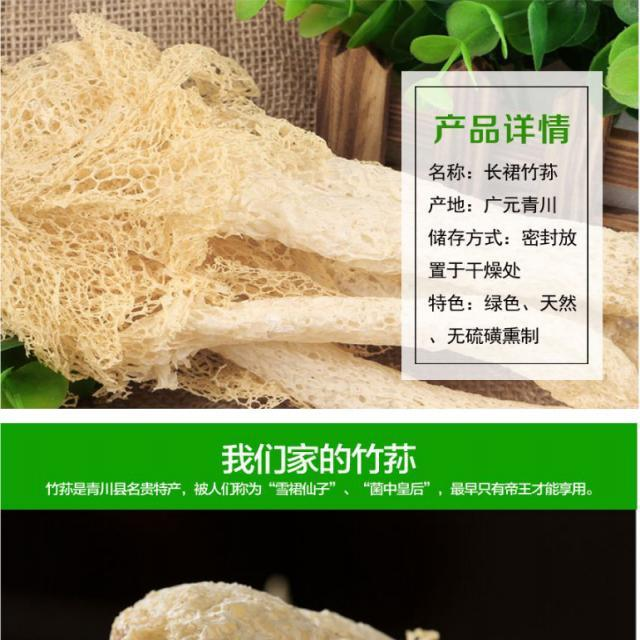Dictyophora indusiate: (3, 15, 639, 411)
